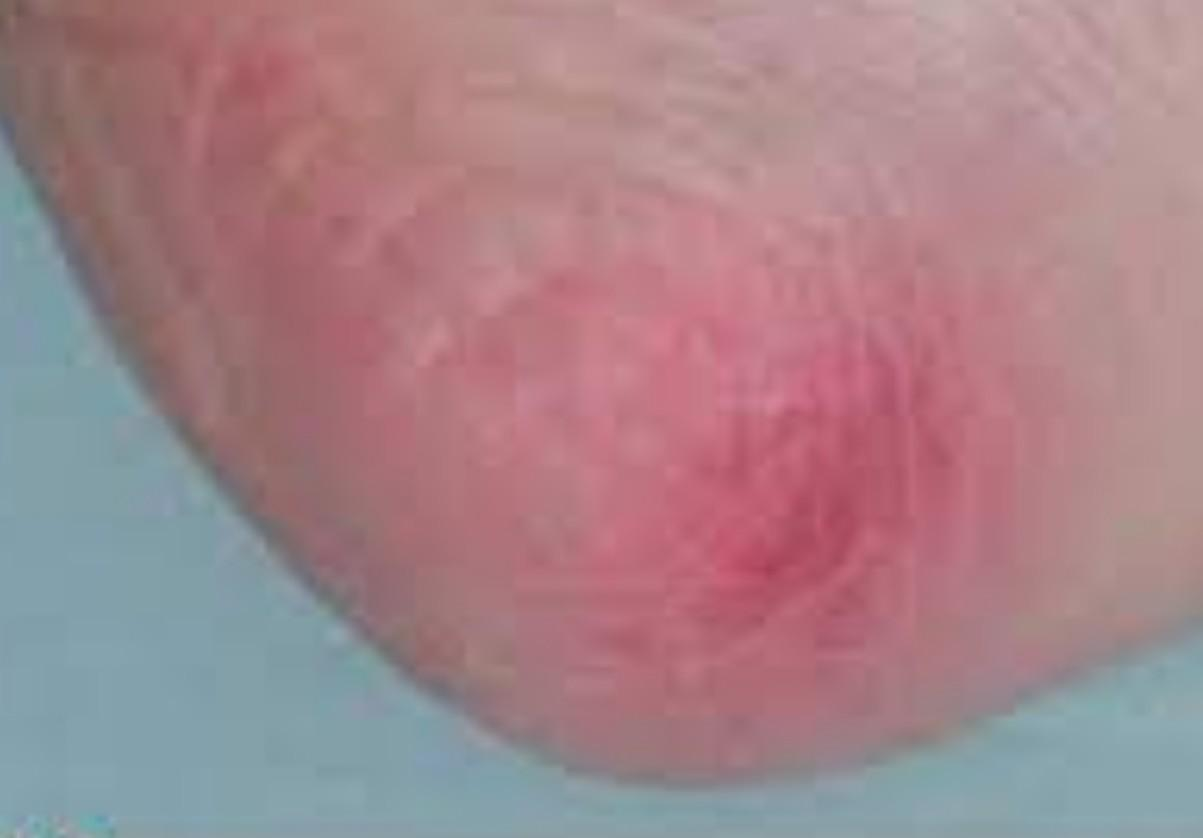Stage1: (194, 112, 1036, 767)
